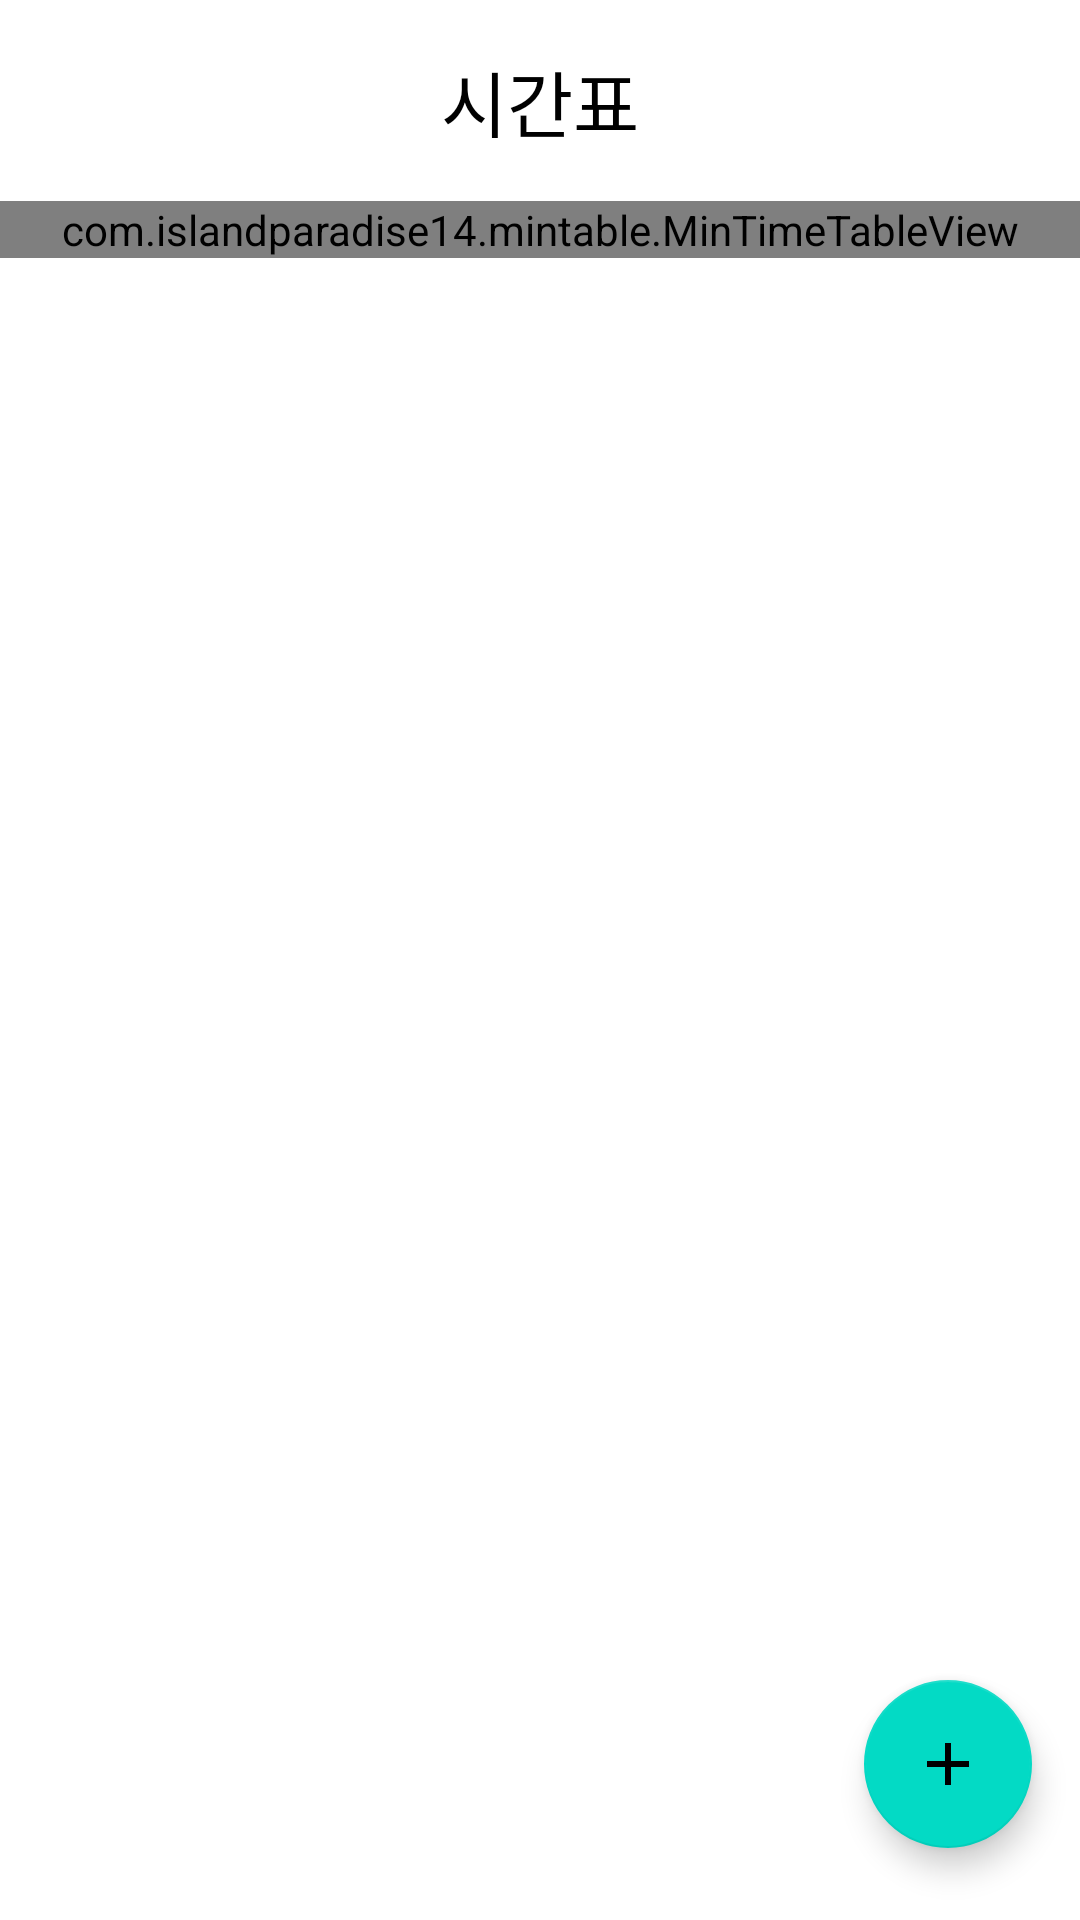

Icons on this 1080px x 1920px Android screen, each with the point to tap as (x,y):
시간표 추가 버튼: (948,1764)
